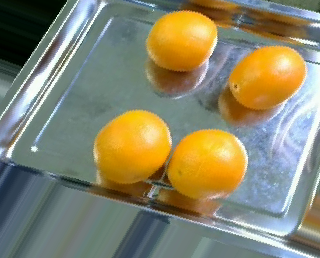Orange: (94, 108, 172, 184), (167, 127, 248, 200), (229, 45, 307, 110), (145, 10, 216, 72)
